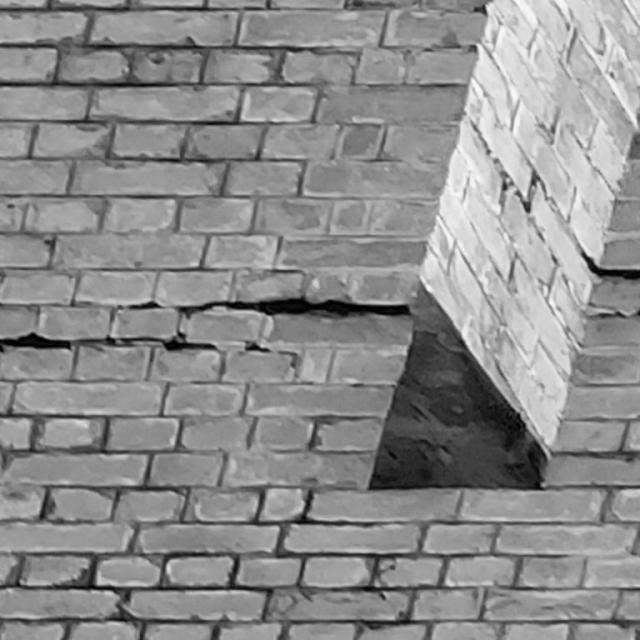crack: (1, 294, 410, 353), (579, 249, 640, 281)
